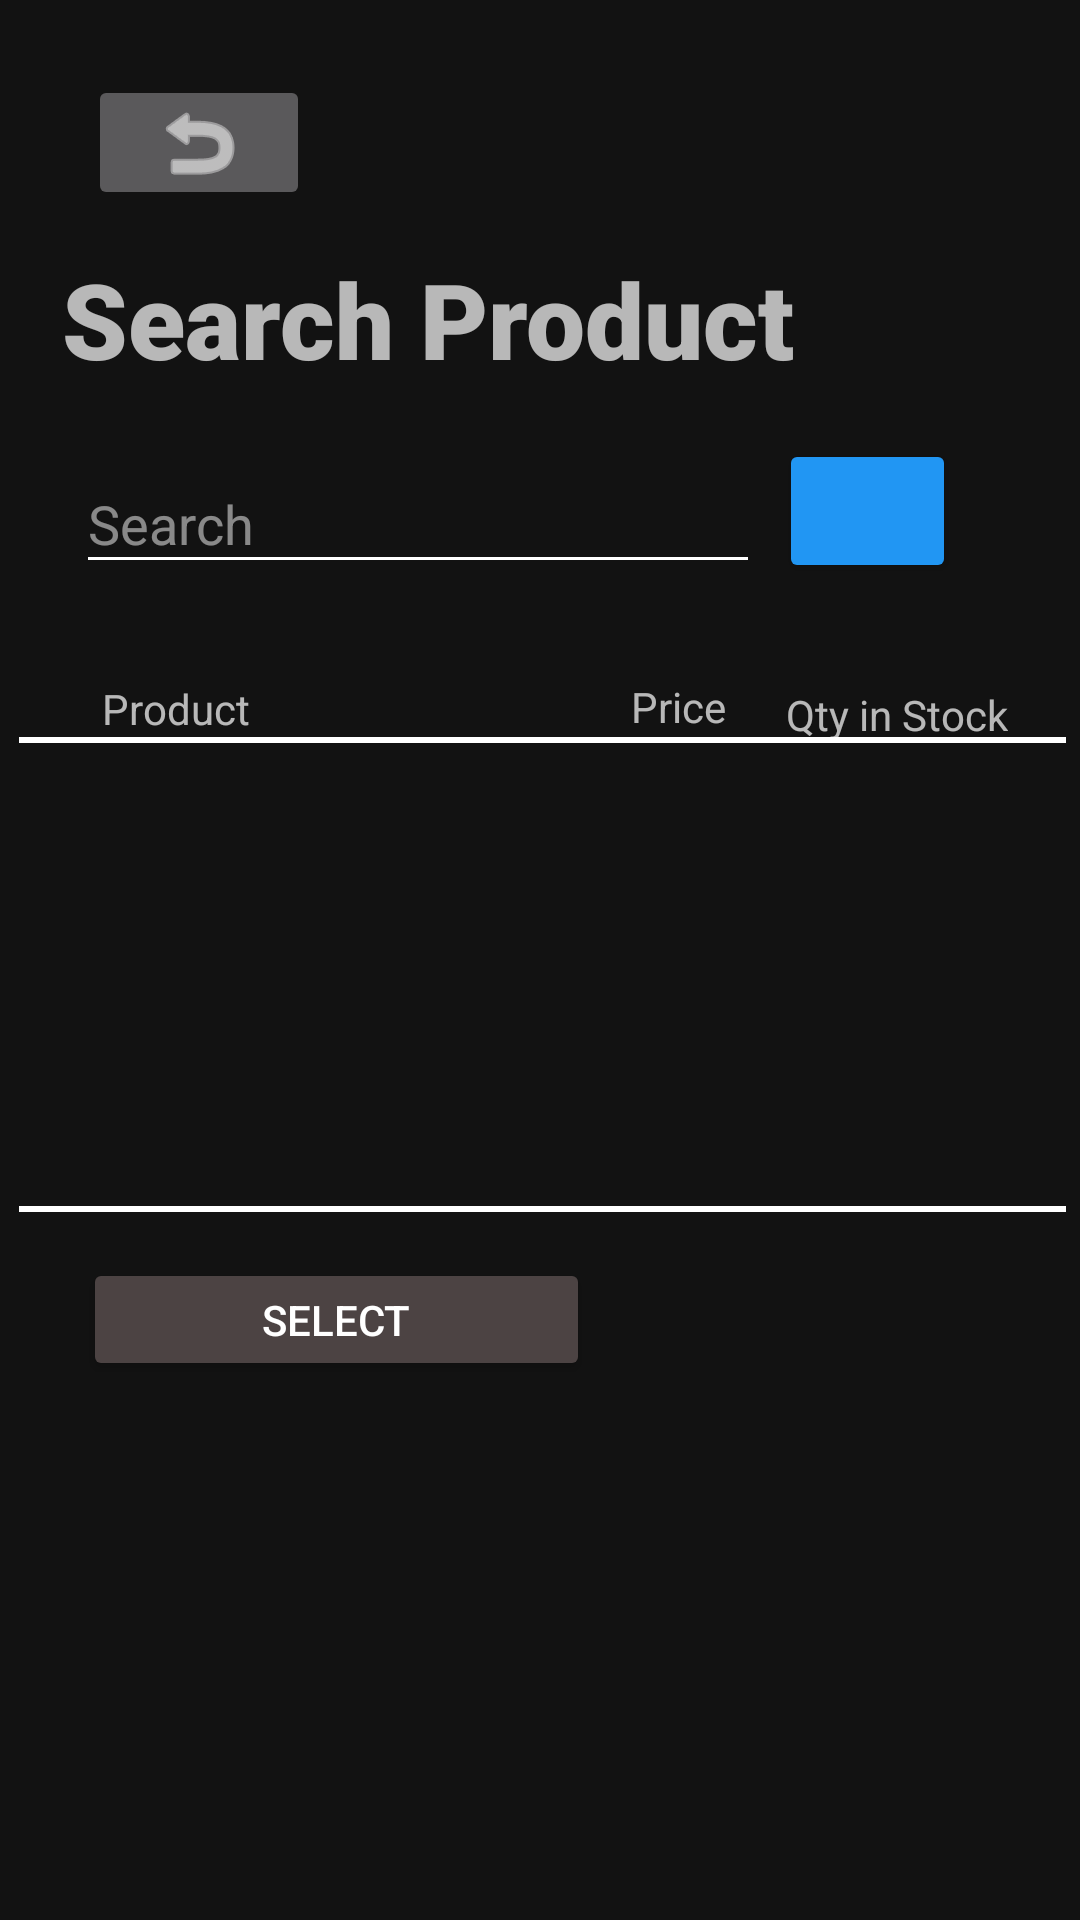

Icon click points for this 1080*1920 phone screenshot, format [x,y]:
revert: [199,142]
